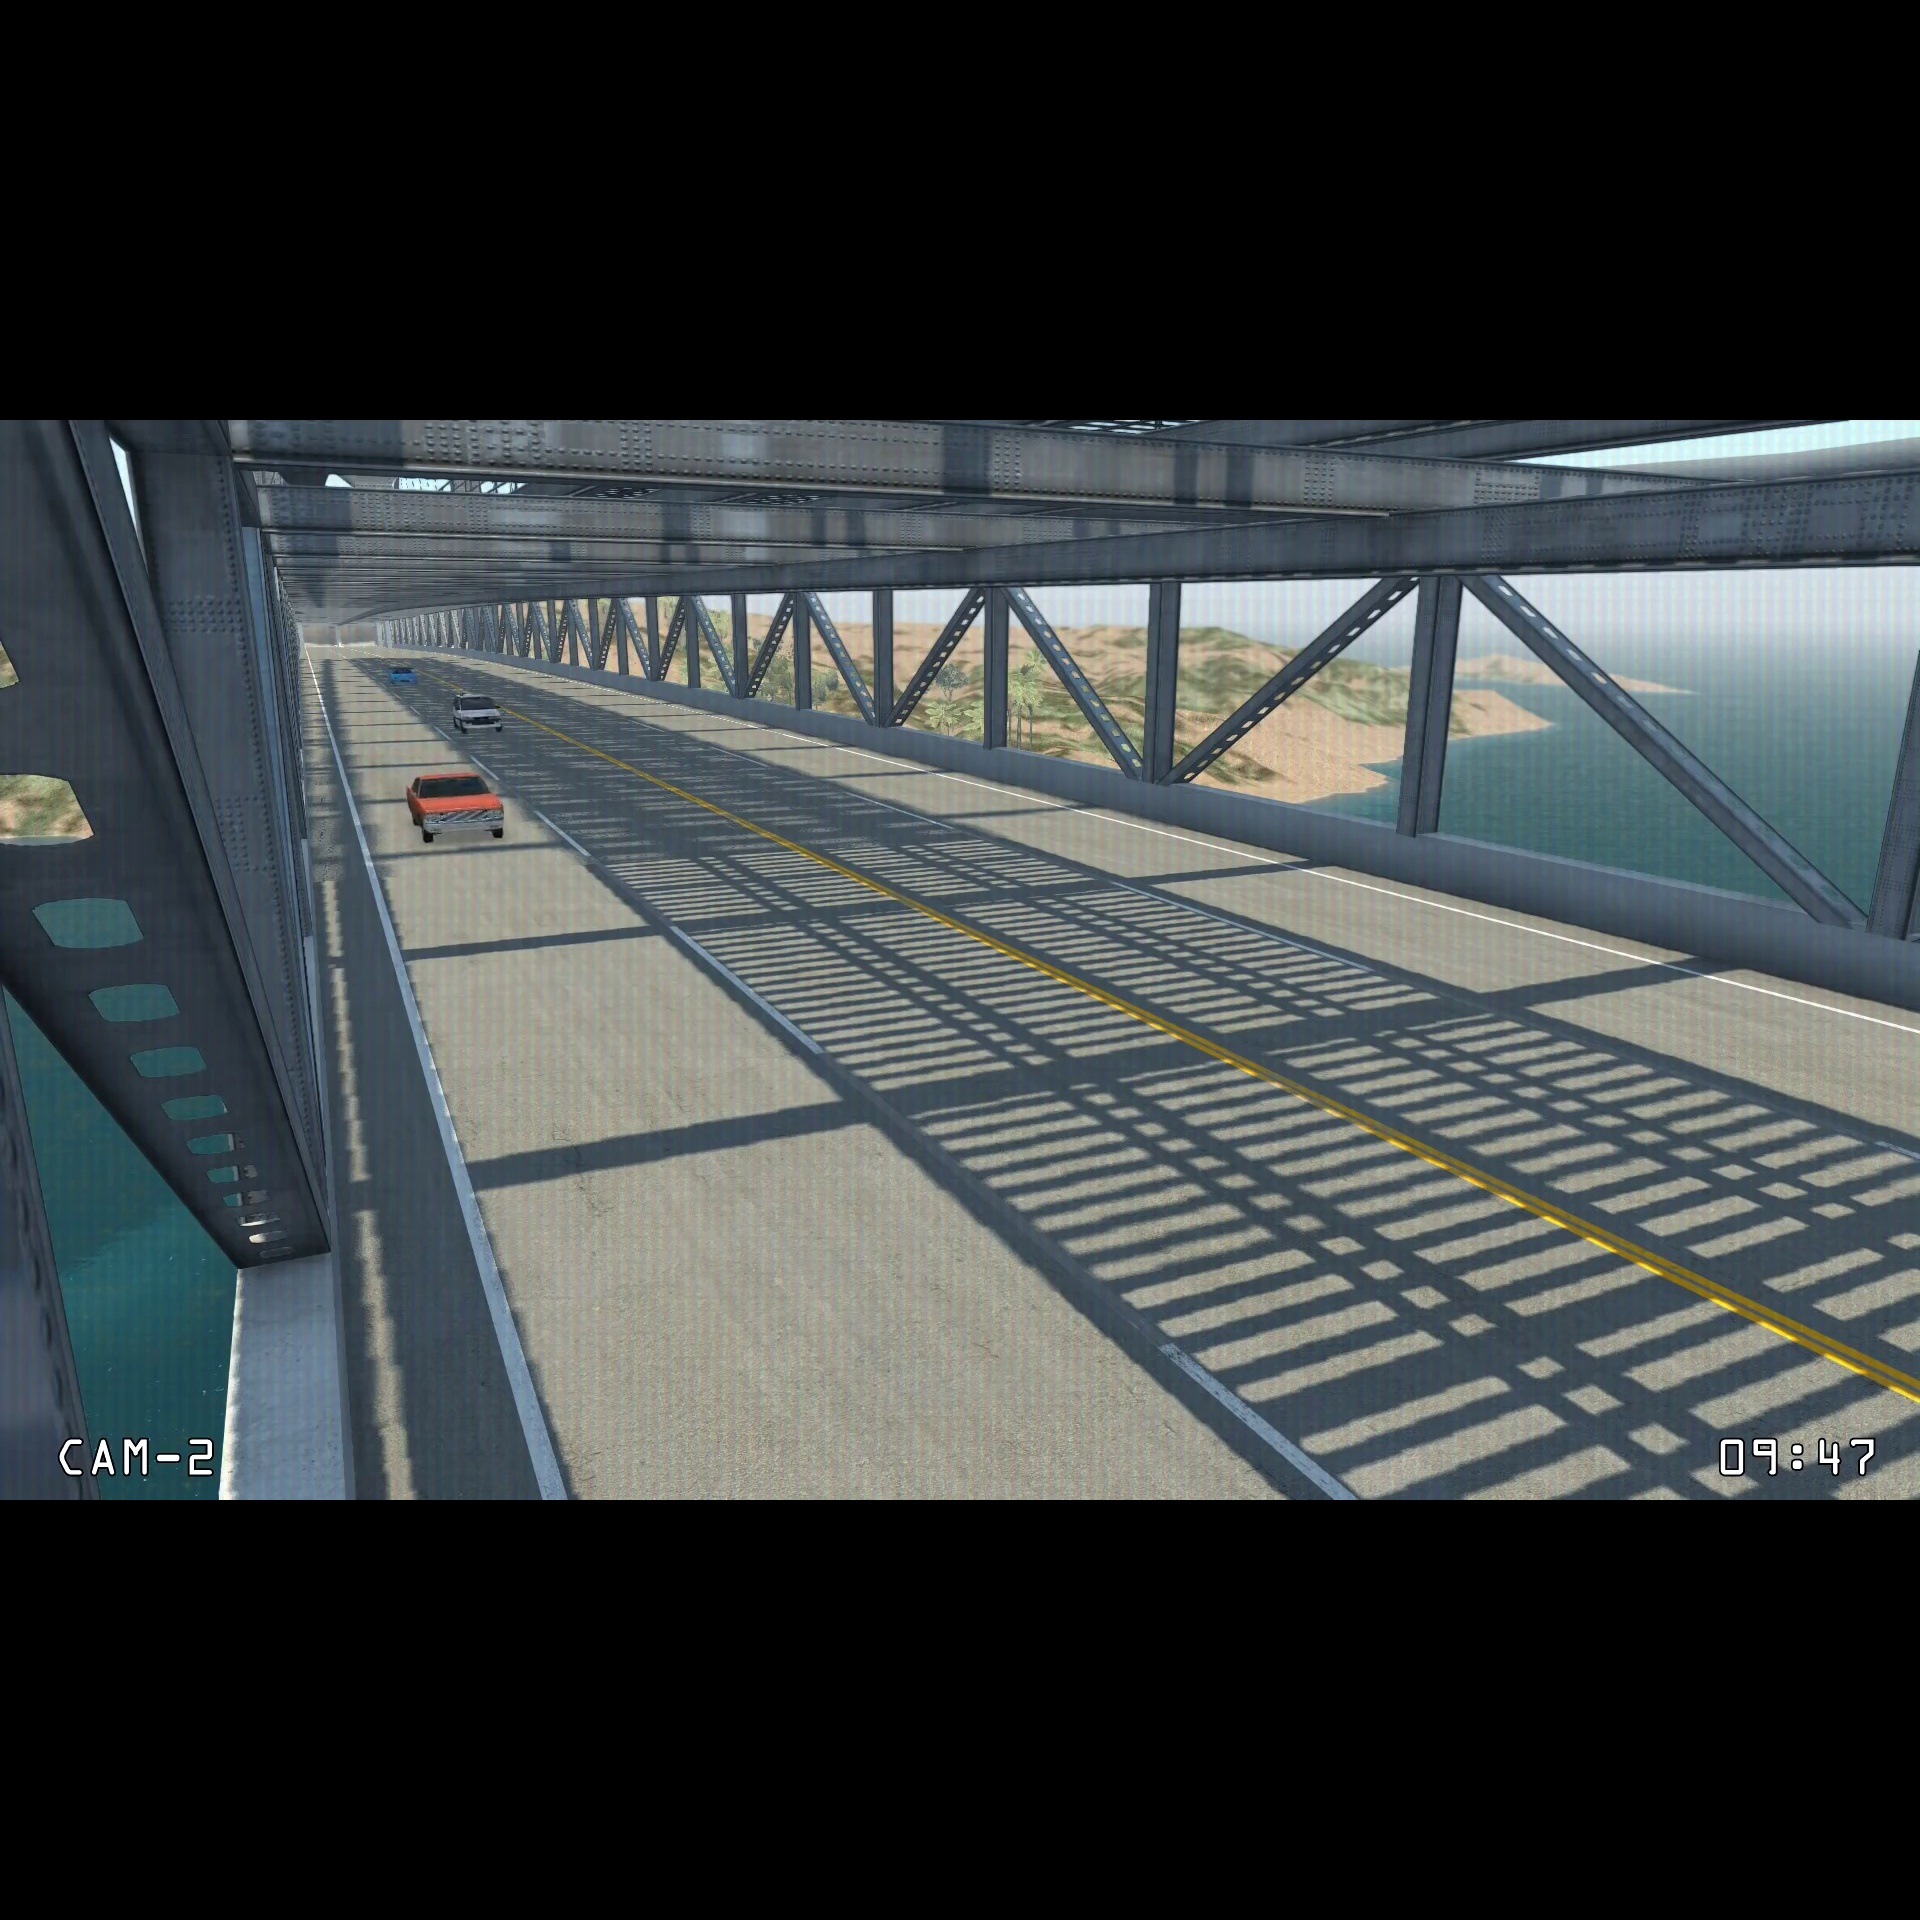vehicle: (401, 761, 512, 855), (445, 687, 512, 738), (385, 663, 418, 689)
